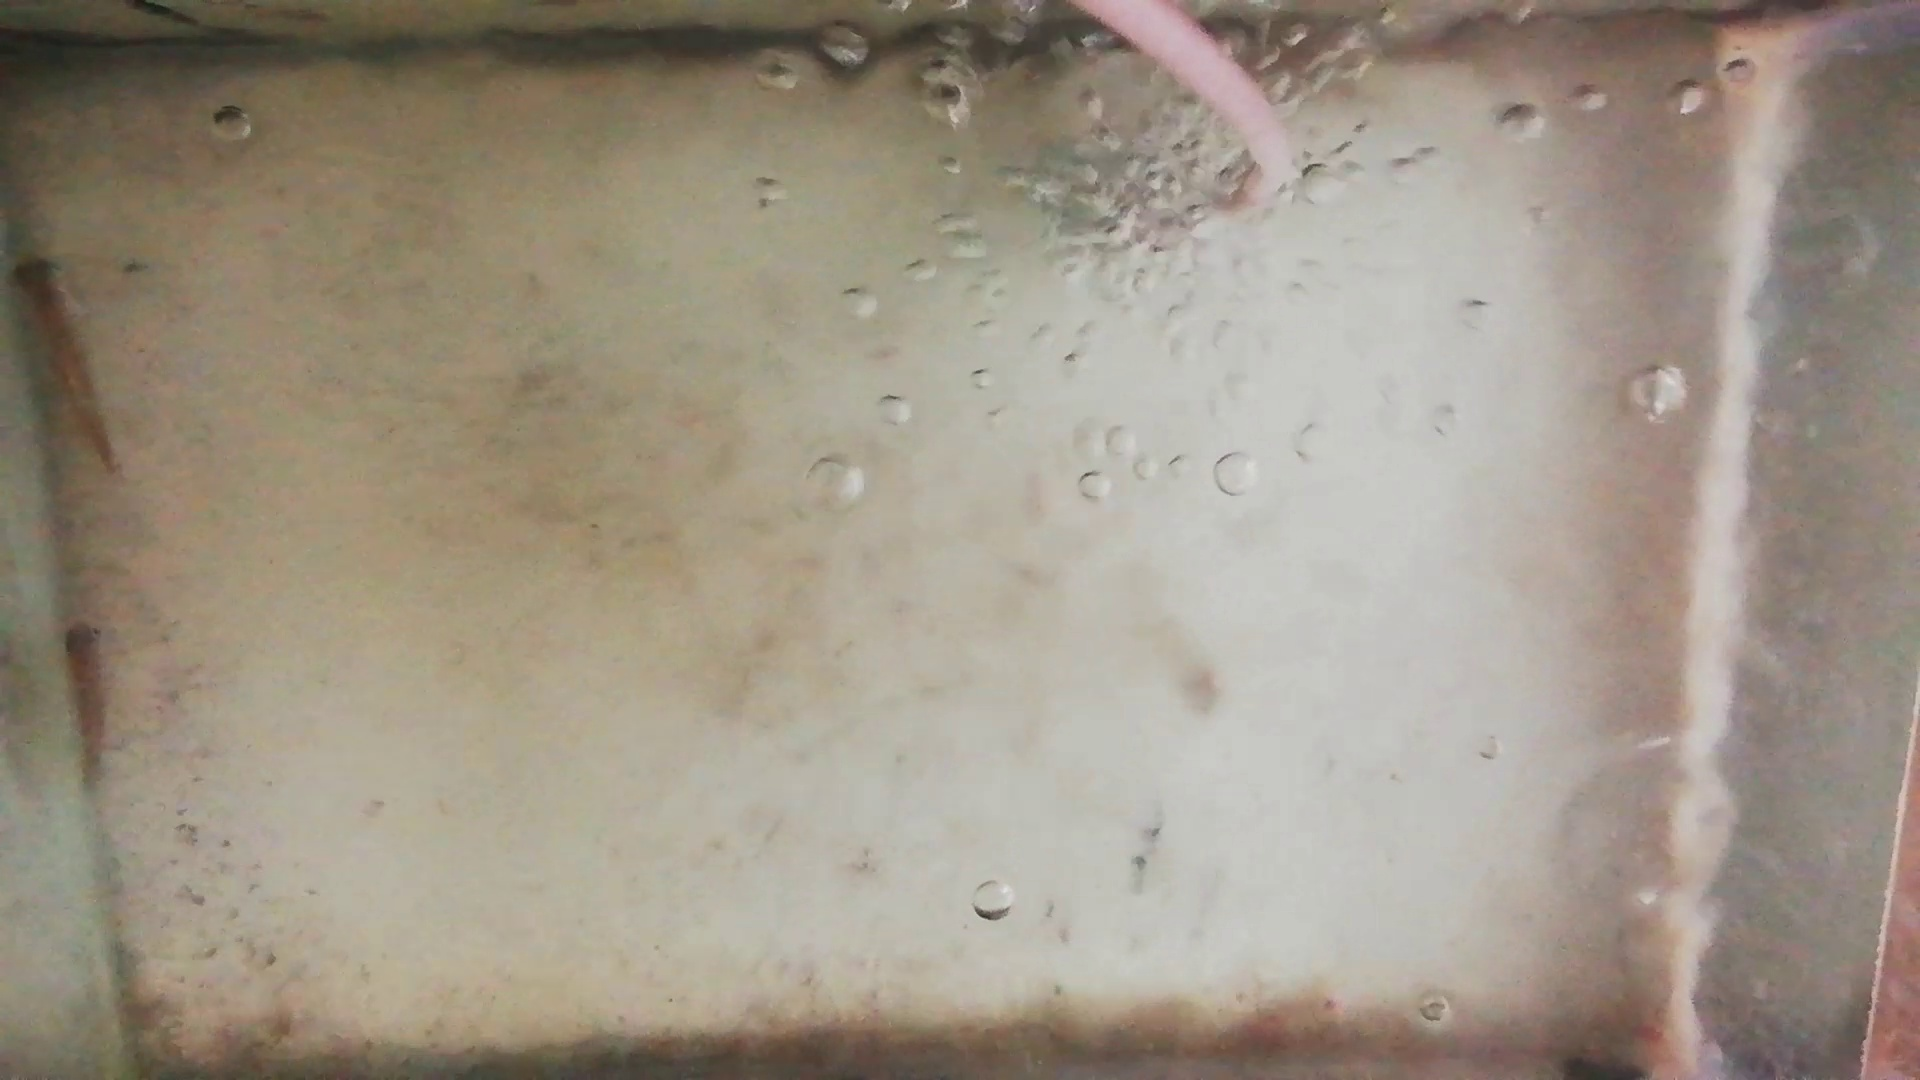fish: (9, 253, 115, 468), (61, 618, 108, 789)
